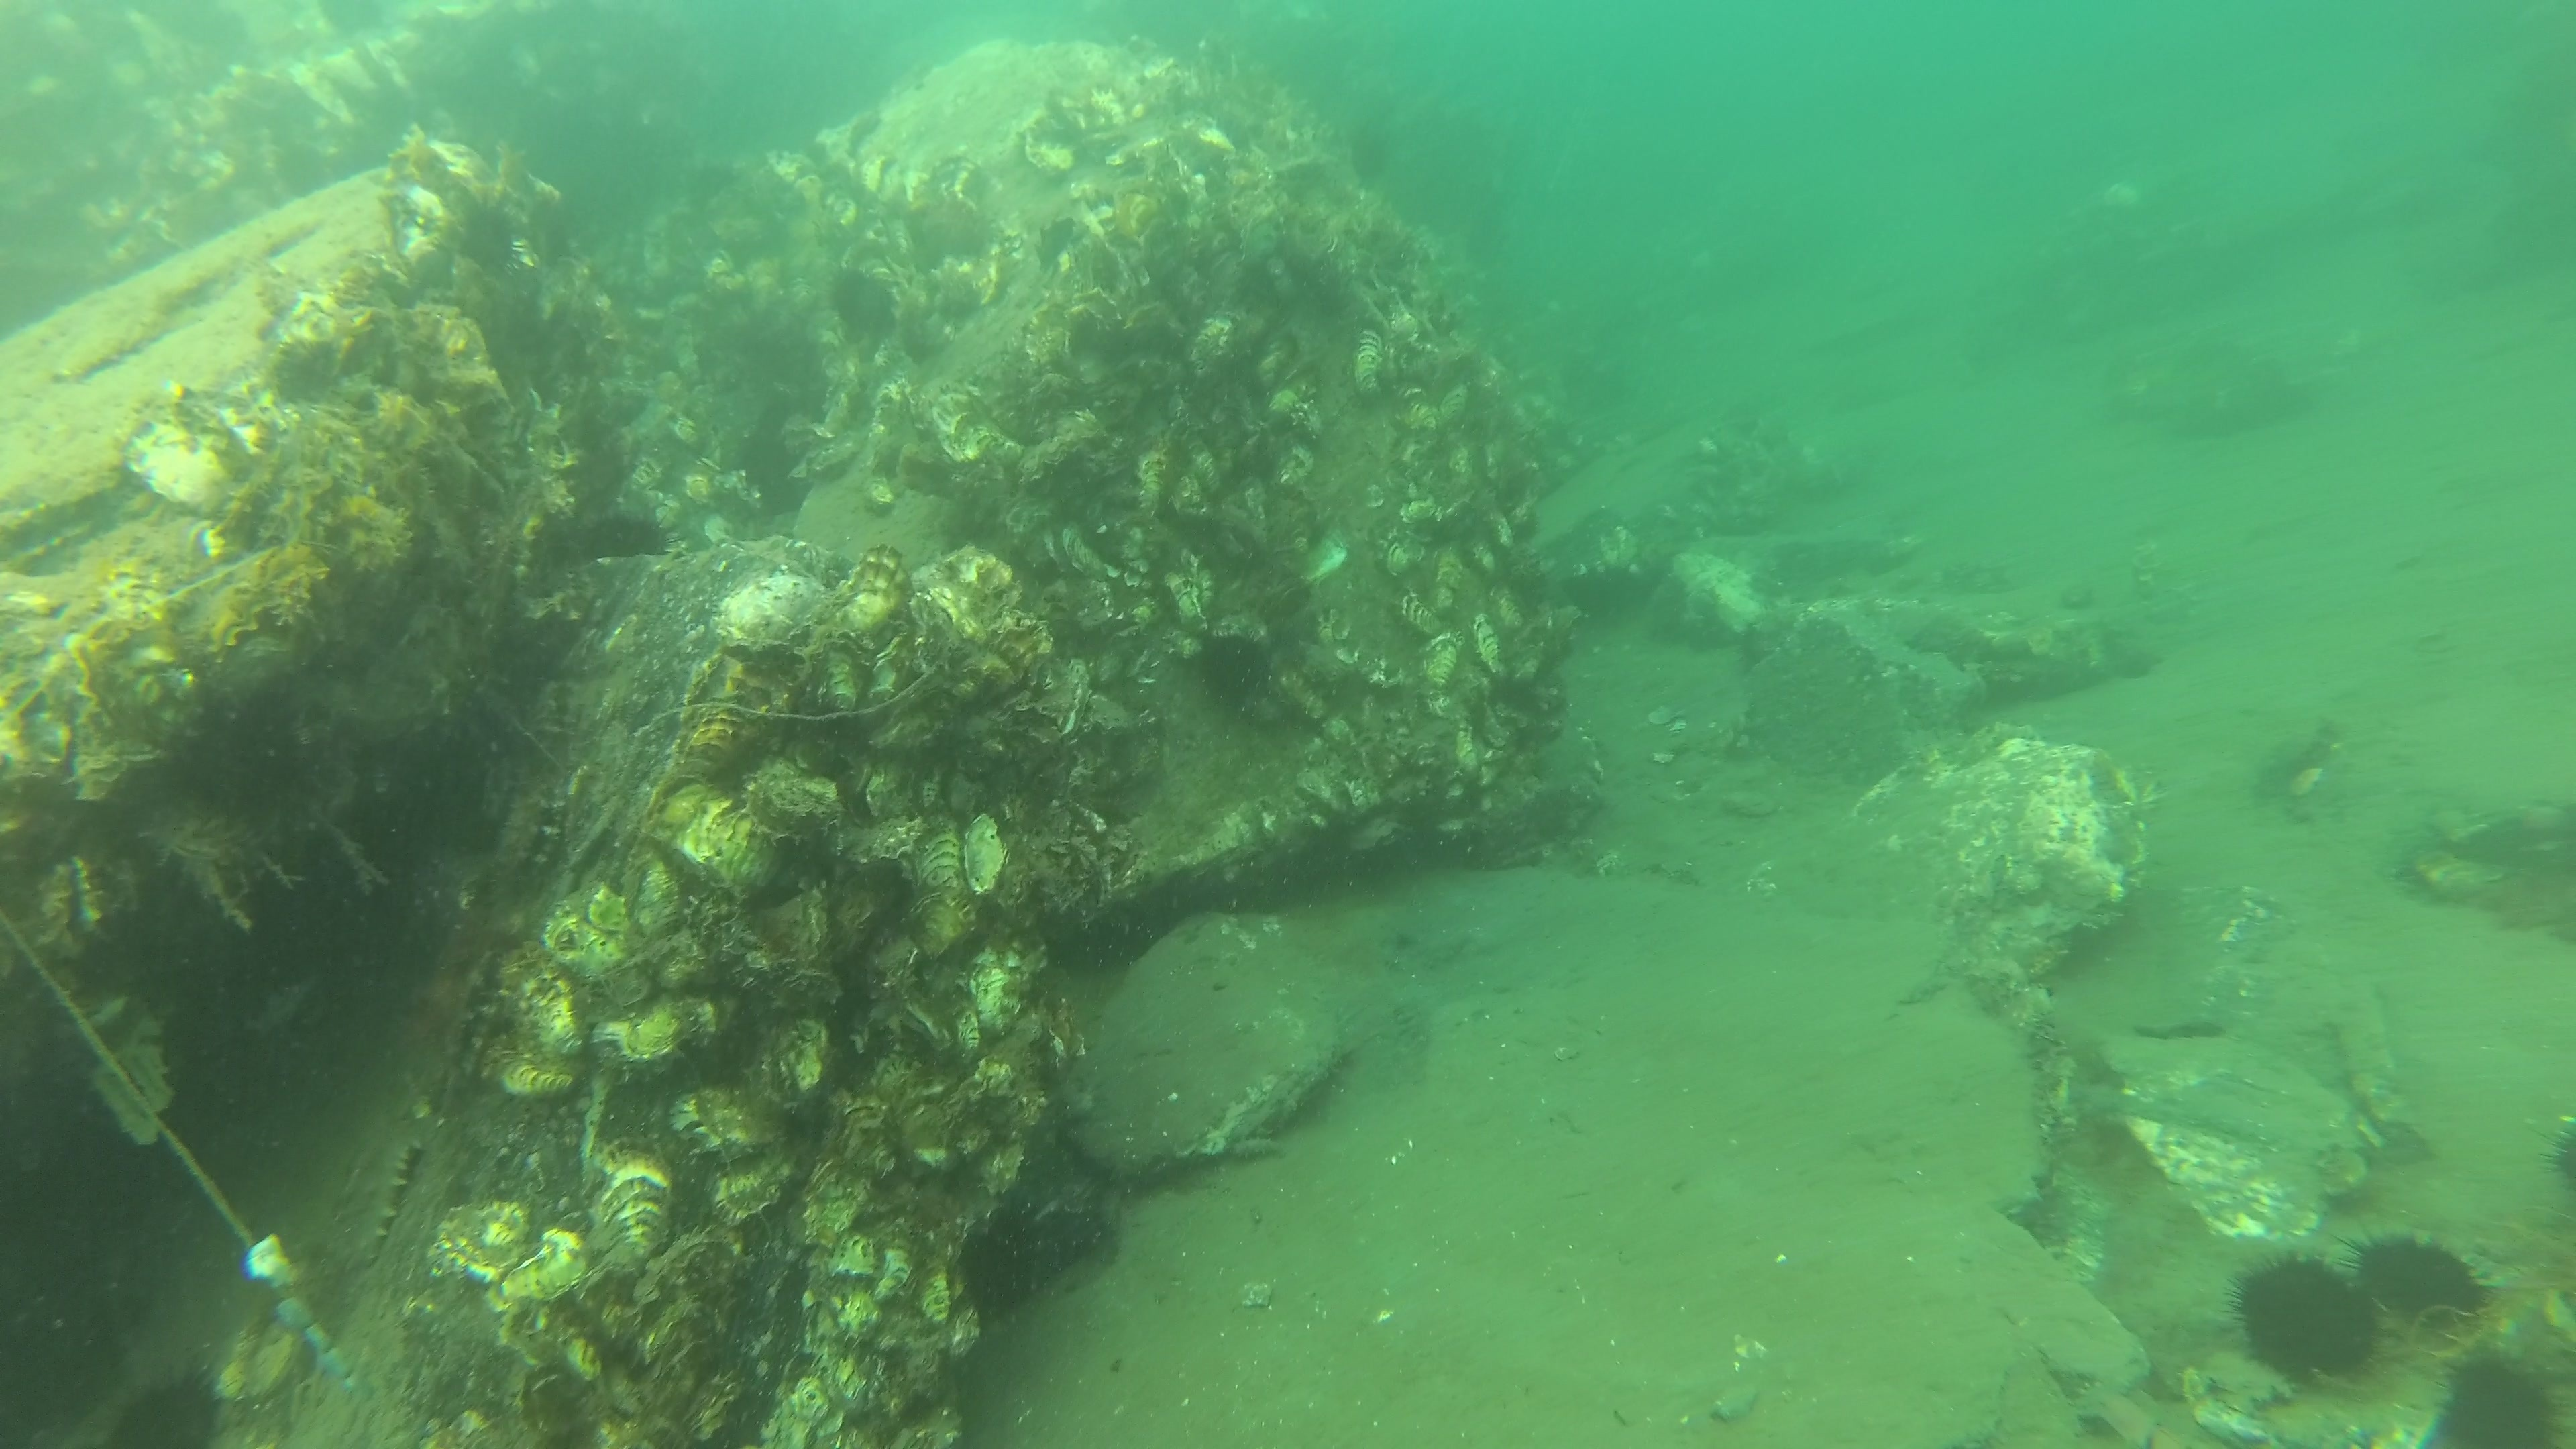echinus: (2229, 1247, 2380, 1382), (957, 1191, 1054, 1316), (2436, 1357, 2558, 1449), (108, 1368, 223, 1449), (2381, 1242, 2479, 1318), (573, 504, 683, 570), (821, 264, 899, 343), (1205, 625, 1274, 702), (2551, 1118, 2576, 1212)
